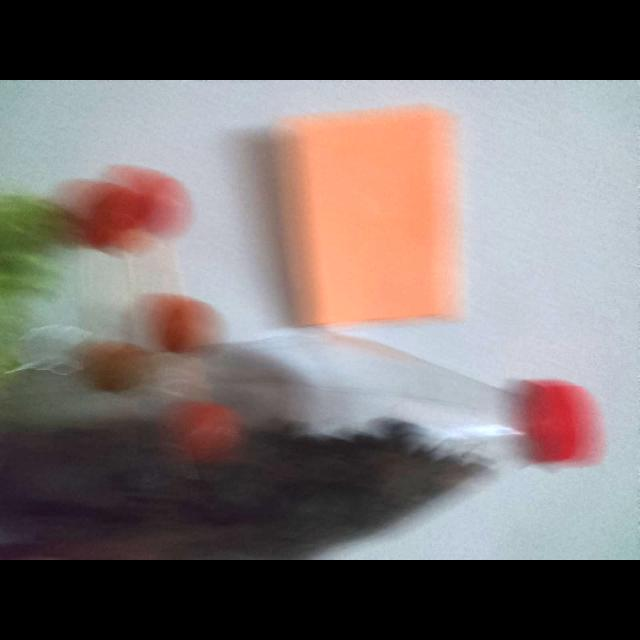card: (279, 106, 460, 326)
fruit_maturation: (171, 402, 243, 463)
fully_grown: (78, 166, 190, 251), (146, 294, 216, 353)
